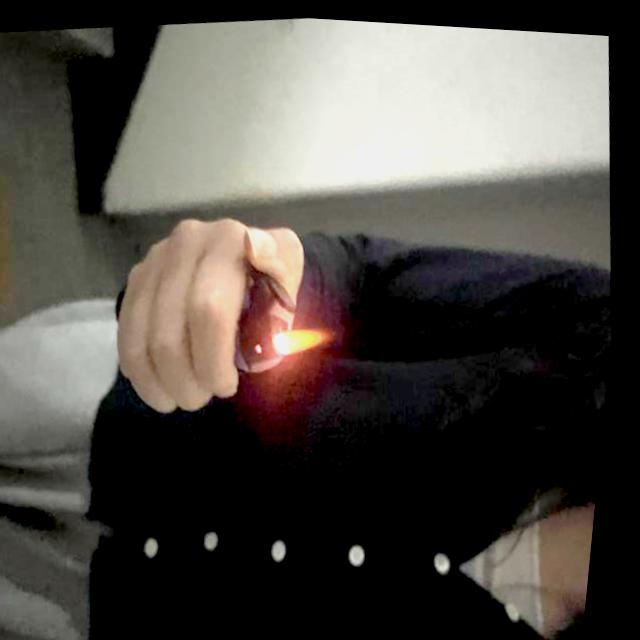Fire: (283, 319, 336, 353)
